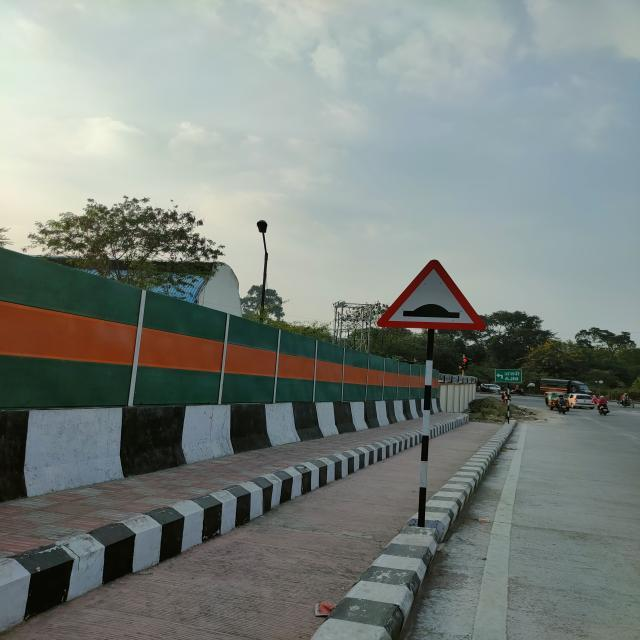hump or rough road: (376, 257, 489, 334)
